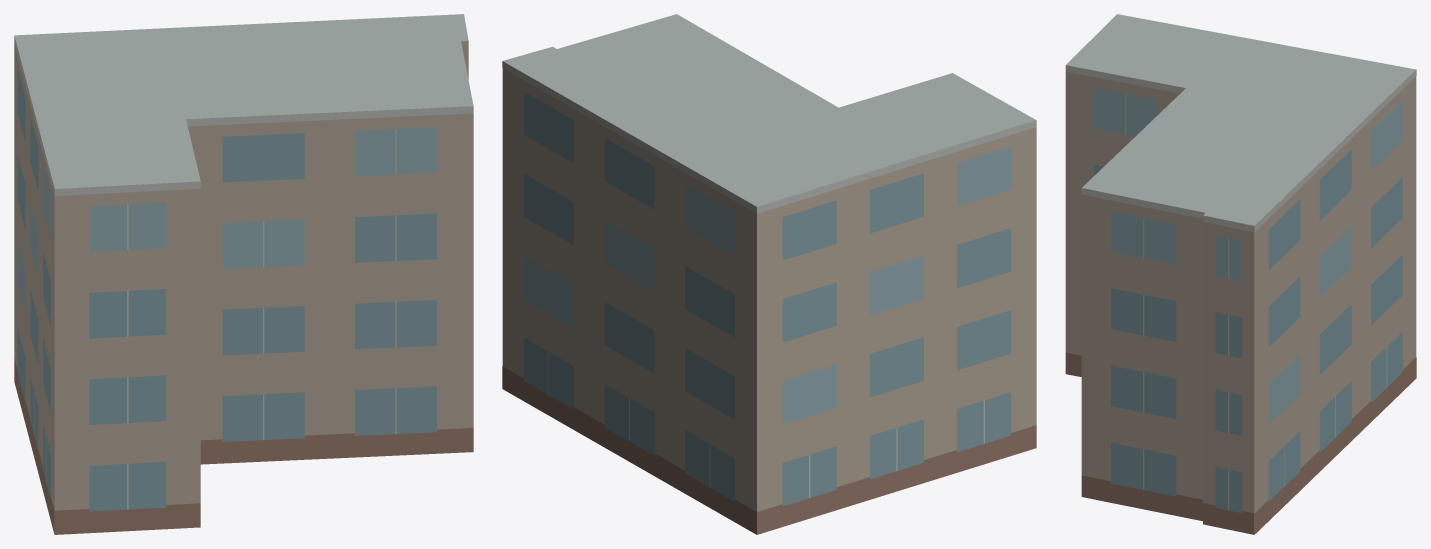
File: survey-upis-32531068.glb
The picture shows the model from 3 angles, left to right: view 1: azimuth 30°, elevation 25°; view 2: azimuth 150°, elevation 25°; view 3: azimuth 270°, elevation 25°; orthographic projection. The views are drawn at different scales.
Parts seen in each view (by area): view 1: survey-upis-32531068.tmp; view 2: survey-upis-32531068.tmp; view 3: survey-upis-32531068.tmp.
Part boxes in pixels (bbox=[...]): survey-upis-32531068.tmp: bbox=[14, 14, 473, 534]; survey-upis-32531068.tmp: bbox=[502, 14, 1036, 534]; survey-upis-32531068.tmp: bbox=[1065, 14, 1416, 534].
Size of the model in its own units: 17.08 by 11.6 by 11.95.
